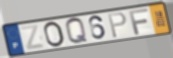6: (88, 15, 107, 42)
F: (128, 7, 150, 36)
O: (43, 20, 67, 49)
P: (106, 11, 128, 39)
Q: (65, 17, 90, 46)
Z: (19, 23, 47, 52)
